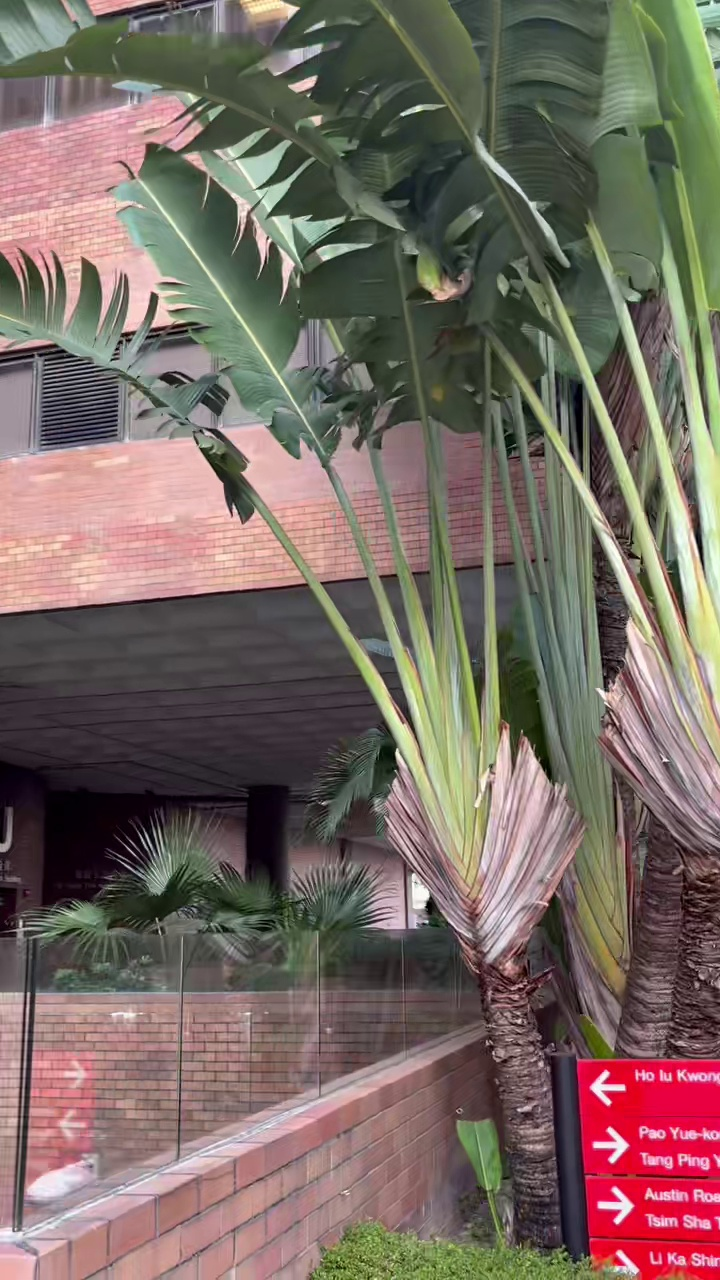Travellers-tree: (0, 0, 719, 1246)
